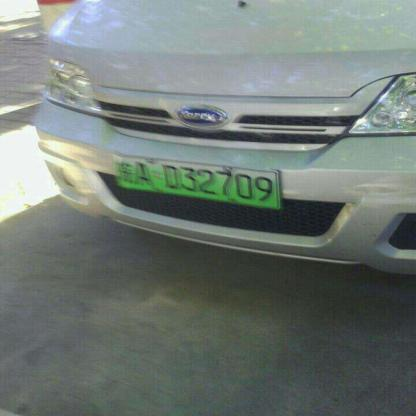lp: (115, 156, 286, 210)
